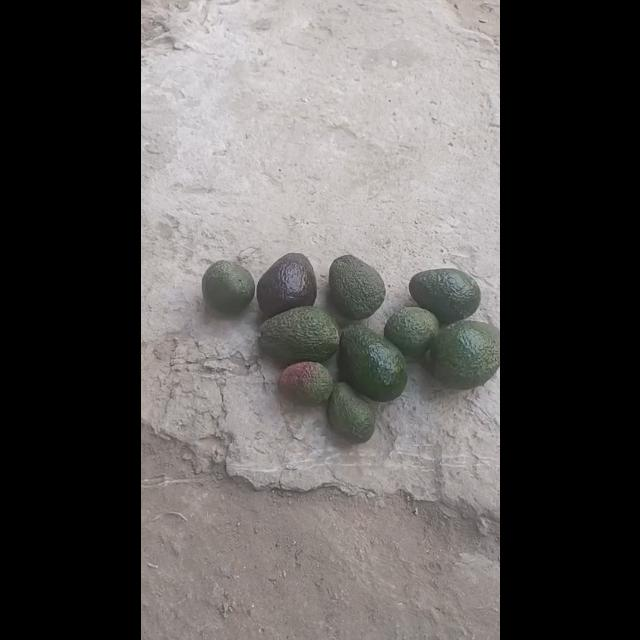Primera: (338, 326, 406, 400), (427, 320, 499, 388), (258, 306, 340, 364), (255, 251, 317, 317), (408, 266, 480, 322), (327, 254, 385, 318)
Segunda: (200, 259, 256, 315), (383, 306, 439, 356)
Tercera: (326, 381, 374, 441), (278, 360, 332, 406)
